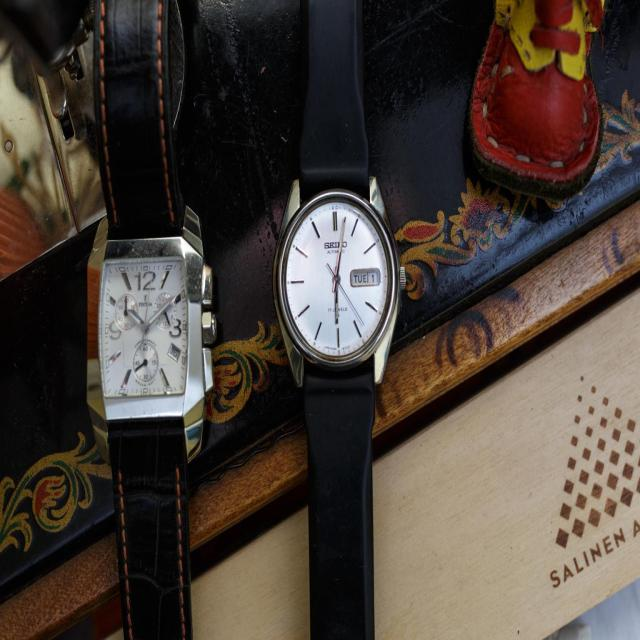Wrist watch: (272, 2, 406, 639), (96, 1, 216, 640)
